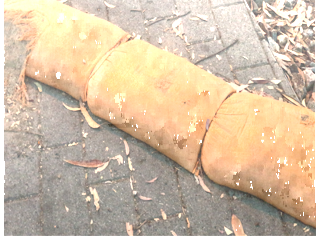Obstacle: (22, 2, 314, 223)
